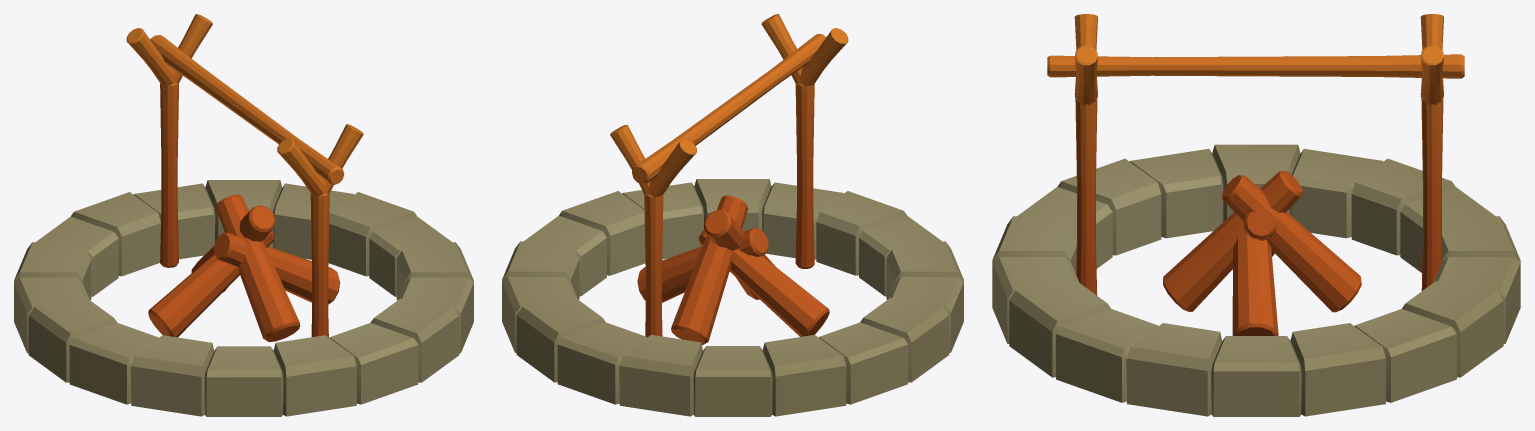
Rendered from Fire_Camp.FBX.
The picture shows the model from 3 angles, left to right: view 1: azimuth 30°, elevation 25°; view 2: azimuth 150°, elevation 25°; view 3: azimuth 270°, elevation 25°; orthographic projection. The views are drawn at different scales.
Parts seen in each view (by area): view 1: Fire_Camp, Rull; view 2: Fire_Camp, Rull; view 3: Fire_Camp, Rull.
Part boxes in pixels (x1=…): Fire_Camp: x1=14, y1=14, x2=473, y2=416; Rull: x1=150, y1=35, x2=344, y2=184; Fire_Camp: x1=502, y1=14, x2=963, y2=416; Rull: x1=632, y1=34, x2=826, y2=184; Fire_Camp: x1=992, y1=14, x2=1520, y2=416; Rull: x1=1047, y1=54, x2=1464, y2=78.
Bounding box in the file's own units: 11.59 × 6.89 × 11.75.
Materials: 1 (1 with a texture image).
